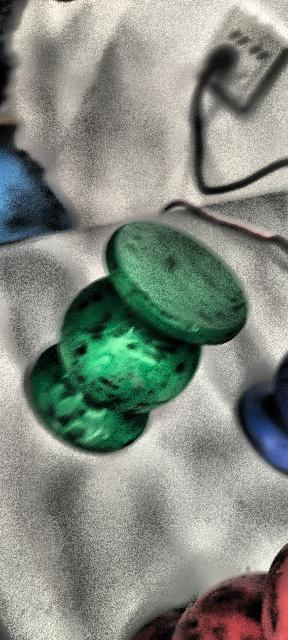blue: (28, 218, 249, 454)
